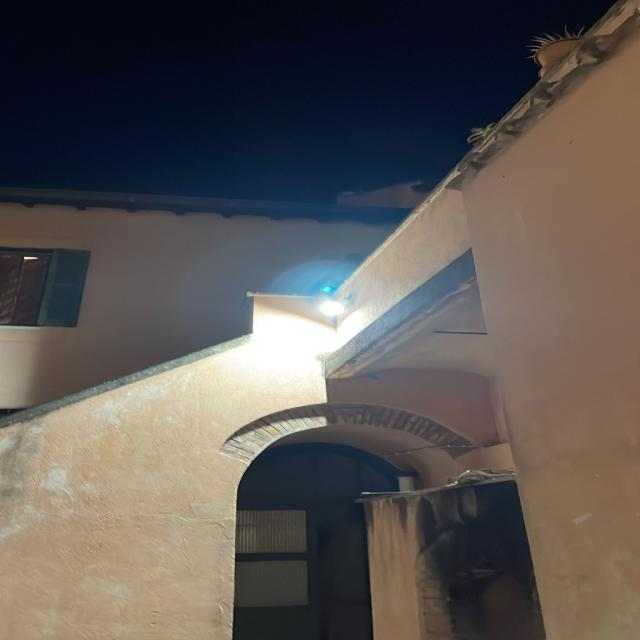lampione: (306, 293, 356, 322)
